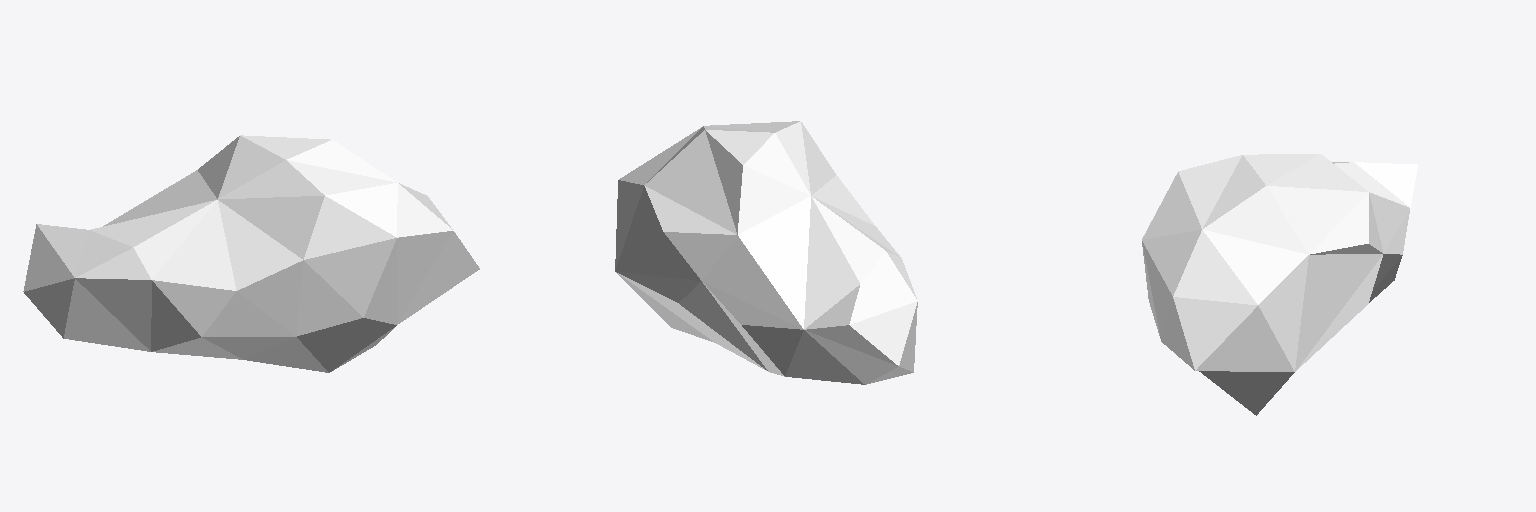
Rendered from cloud.obj.
3 renders of one model, left to right at view 1: azimuth 30°, elevation 25°; view 2: azimuth 150°, elevation 25°; view 3: azimuth 270°, elevation 25°, orthographic.
Visible parts, largest first — view 1: cloud01.3; view 2: cloud01.3; view 3: cloud01.3.
Part boxes in pixels (x1,y1,x2,y2): cloud01.3: (23, 135, 479, 372); cloud01.3: (615, 121, 917, 384); cloud01.3: (1142, 154, 1417, 415).
Size of the model in its own units: 30.45 by 17.1 by 20.06.